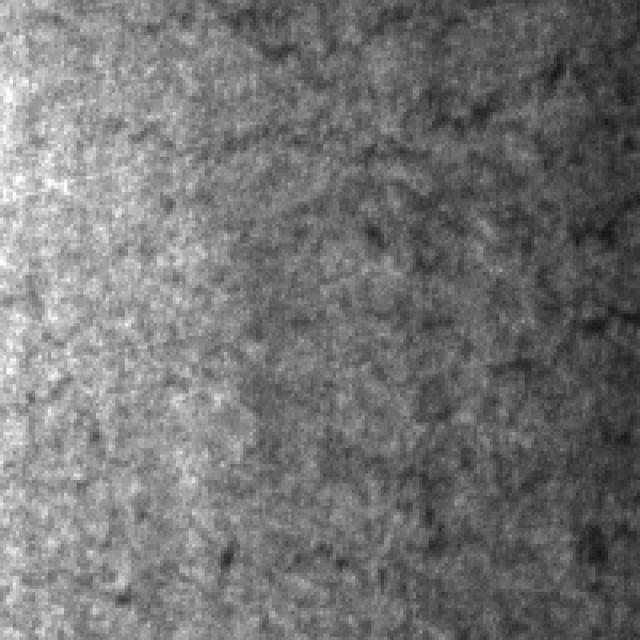crazing: (208, 0, 637, 275), (339, 259, 637, 634)
